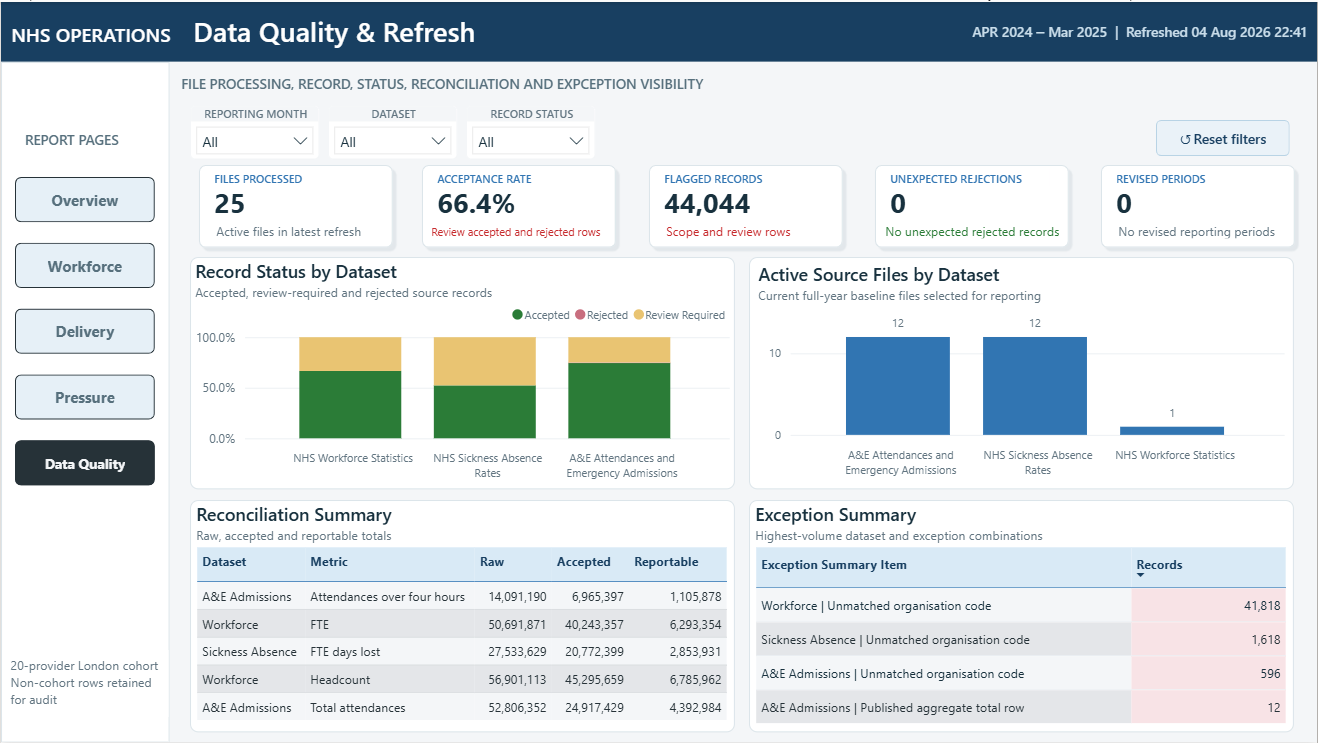

The dashboard page shown, as its layout file describes it:
{"tool":"powerbi","page":{"name":"Data Quality","canvas":[1280,720],"ordinal":4},"visuals":[{"type":"shape","box":[0,58,164,662],"z":0},{"type":"shape","box":[404,153,200.2,92],"z":0,"group":"g2"},{"type":"shape","box":[1064,153,200.2,92],"z":0,"group":"g5"},{"type":"shape","box":[0,0,1280,58],"z":1000},{"type":"shape","box":[624,153,200,92],"z":1000,"group":"g3"},{"type":"cardVisual","fields":{"Data":["_Measures.Acceptance Rate Card Value"]},"box":[419.2,177,169.7,31],"z":1000,"group":"g2"},{"type":"cardVisual","fields":{"Data":["_Measures.Active Revised Periods Card Value"]},"box":[1079.2,177,169.7,31],"z":1000,"group":"g5"},{"type":"textbox","box":[5,5,550,47],"z":2000},{"type":"shape","box":[186.7,152.7,200,92],"z":2000,"group":"g1"},{"type":"cardVisual","fields":{"Data":["_Measures.Acceptance Rate Card Delta"]},"box":[412,212,180,20],"z":2000,"group":"g2"},{"type":"cardVisual","fields":{"Data":["_Measures.Active Revised Periods Card Delta"]},"box":[1079.2,212,170,20],"z":2000,"group":"g5"},{"type":"cardVisual","fields":{"Data":["_Measures.Latest Refresh Label"]},"box":[1085,10,190,35],"z":3000},{"type":"shape","box":[844,153,200,92],"z":3000,"group":"g4"},{"type":"textbox","box":[419.2,163,140,17],"z":3000,"group":"g2"},{"type":"textbox","box":[1079.2,163,128.8,17],"z":3000,"group":"g5"},{"type":"textbox","box":[940,11,148,35],"z":4000},{"type":"textbox","box":[1,630,162,65],"z":5000},{"type":"textbox","box":[170.2,65.2,548.6,30.2],"z":6000},{"type":"actionButton","box":[1123,115,130,35],"z":7000},{"type":"group","id":"g1","title":"Group 2","box":[186.7,152.7,200,92],"z":8000},{"type":"group","id":"g2","title":"Group 3","box":[404,153,200.2,92],"z":9000},{"type":"group","id":"g3","title":"Group 3","box":[624,153,200,92],"z":10000},{"type":"group","id":"g4","title":"Group 1","box":[844,153,200,92],"z":11000},{"type":"group","id":"g5","title":"Group 3","box":[1064,153,200.2,92],"z":12000},{"type":"slicer","title":"REPORTING MONTH","fields":{"Values":["DimDate.MonthLabel"]},"box":[184,100,126,53],"z":13000},{"type":"pageNavigator","box":[14,170,136,300],"z":14000},{"type":"textbox","box":[15,120,130,30],"z":15000},{"type":"slicer","title":"DATASET","fields":{"Values":["DataQualityRuleResults.ReportingMonth"]},"box":[318,100,126,53],"z":16000},{"type":"slicer","title":"RECORD STATUS","fields":{"Values":["DataQualityRuleResults.RecordStatus"]},"box":[452,100,126,53],"z":17000},{"type":"hundredPercentStackedColumnChart","title":"Record Status by Dataset","fields":{"Category":["DataQualityRuleResults.SourceDataset"],"Y":["Sum(DataQualityRuleResults.RecordCount)"],"Series":["DataQualityRuleResults.RecordStatus"]},"box":[184,248,530,226],"z":18000},{"type":"columnChart","title":"Active Source Files by Dataset","fields":{"Category":["SourceFileRegister.SourceDataset"],"Y":["Count(SourceFileRegister.SourceFile)"],"Series":["SourceFileRegister.FileDisposition"]},"box":[728,248,530,226],"z":19000},{"type":"tableEx","title":"Reconciliation Summary","fields":{"Values":["Reconciliation.Dataset Short","Reconciliation.Metric","Reconciliation.RawValue","Reconciliation.AcceptedValue","Reconciliation.ReportableValue"]},"box":[184,484,530,226],"z":20000},{"type":"tableEx","title":"Exception Summary","fields":{"Values":["Exceptions.Exception Summary Item","_Measures.Current Exceptions"]},"box":[728,484,530,226],"z":21000},{"type":"textbox","box":[201.9,162.7,128.7,17],"z":22000,"group":"g1"},{"type":"textbox","box":[639.2,163,163.7,17],"z":23000,"group":"g3"},{"type":"textbox","box":[859.2,163,160,17],"z":23000,"group":"g4"},{"type":"cardVisual","fields":{"Data":["_Measures.Source Files Processed Card Value"]},"box":[201.9,176.7,169.6,31],"z":26000,"group":"g1"},{"type":"cardVisual","fields":{"Data":["_Measures.Current Exceptions Card Value"]},"box":[639.2,177,169.6,31],"z":27000,"group":"g3"},{"type":"cardVisual","fields":{"Data":["_Measures.Unexpected Rejected Records Card Value"]},"box":[859.2,177,169.6,31],"z":28000,"group":"g4"},{"type":"cardVisual","fields":{"Data":["_Measures.Source Files Processed Card Delta"]},"box":[201.9,211.7,161.4,20],"z":30000,"group":"g1"},{"type":"cardVisual","fields":{"Data":["_Measures.Current Exceptions Card Delta"]},"box":[639.2,212,169.6,20],"z":31000,"group":"g3"},{"type":"cardVisual","fields":{"Data":["_Measures.Unexpected Rejected Records Card Delta"]},"box":[853,212,185,20],"z":33000,"group":"g4"}]}

Visuals, with their boxes in screenshot pixels (x1, y1, x2, y2), scaled from the page's 1280x720 canvas onto the 1318x743 screenshot:
shape: <bbox>0, 60, 169, 742</bbox>
shape: <bbox>416, 158, 622, 253</bbox>
shape: <bbox>1096, 158, 1302, 253</bbox>
shape: <bbox>0, 0, 1317, 60</bbox>
shape: <bbox>643, 158, 848, 253</bbox>
cardVisual - _Measures.Acceptance Rate Card Value: <bbox>432, 183, 606, 215</bbox>
cardVisual - _Measures.Active Revised Periods Card Value: <bbox>1111, 183, 1286, 215</bbox>
textbox: <bbox>5, 5, 571, 54</bbox>
shape: <bbox>192, 158, 398, 253</bbox>
cardVisual - _Measures.Acceptance Rate Card Delta: <bbox>424, 219, 610, 239</bbox>
cardVisual - _Measures.Active Revised Periods Card Delta: <bbox>1111, 219, 1286, 239</bbox>
cardVisual - _Measures.Latest Refresh Label: <bbox>1117, 10, 1313, 46</bbox>
shape: <bbox>869, 158, 1075, 253</bbox>
textbox: <bbox>432, 168, 576, 186</bbox>
textbox: <bbox>1111, 168, 1244, 186</bbox>
textbox: <bbox>968, 11, 1120, 47</bbox>
textbox: <bbox>1, 650, 168, 717</bbox>
textbox: <bbox>175, 67, 740, 98</bbox>
actionButton: <bbox>1156, 119, 1290, 155</bbox>
"Group 2" group: <bbox>192, 158, 398, 253</bbox>
"Group 3" group: <bbox>416, 158, 622, 253</bbox>
"Group 3" group: <bbox>643, 158, 848, 253</bbox>
"Group 1" group: <bbox>869, 158, 1075, 253</bbox>
"Group 3" group: <bbox>1096, 158, 1302, 253</bbox>
"REPORTING MONTH" slicer: <bbox>189, 103, 319, 158</bbox>
pageNavigator: <bbox>14, 175, 154, 485</bbox>
textbox: <bbox>15, 124, 149, 155</bbox>
"DATASET" slicer: <bbox>327, 103, 457, 158</bbox>
"RECORD STATUS" slicer: <bbox>465, 103, 595, 158</bbox>
"Record Status by Dataset" hundredPercentStackedColumnChart: <bbox>189, 256, 735, 489</bbox>
"Active Source Files by Dataset" columnChart: <bbox>750, 256, 1295, 489</bbox>
"Reconciliation Summary" tableEx: <bbox>189, 499, 735, 733</bbox>
"Exception Summary" tableEx: <bbox>750, 499, 1295, 733</bbox>
textbox: <bbox>208, 168, 340, 185</bbox>
textbox: <bbox>658, 168, 827, 186</bbox>
textbox: <bbox>885, 168, 1049, 186</bbox>
cardVisual - _Measures.Source Files Processed Card Value: <bbox>208, 182, 383, 214</bbox>
cardVisual - _Measures.Current Exceptions Card Value: <bbox>658, 183, 833, 215</bbox>
cardVisual - _Measures.Unexpected Rejected Records Card Value: <bbox>885, 183, 1059, 215</bbox>
cardVisual - _Measures.Source Files Processed Card Delta: <bbox>208, 218, 374, 239</bbox>
cardVisual - _Measures.Current Exceptions Card Delta: <bbox>658, 219, 833, 239</bbox>
cardVisual - _Measures.Unexpected Rejected Records Card Delta: <bbox>878, 219, 1069, 239</bbox>
